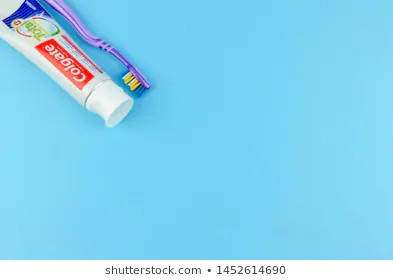colgate-total-150gm: (1, 6, 137, 135)
toothbrush: (71, 19, 155, 96)
